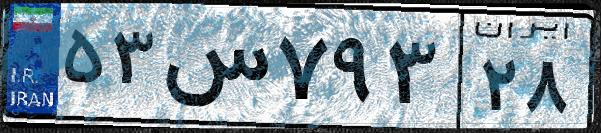2: (475, 38, 525, 113)
3: (385, 28, 445, 110), (110, 28, 158, 98)
5: (57, 26, 110, 100)
7: (270, 28, 330, 110)
8: (525, 38, 570, 115)
9: (330, 28, 385, 110)
س: (158, 20, 270, 120)
